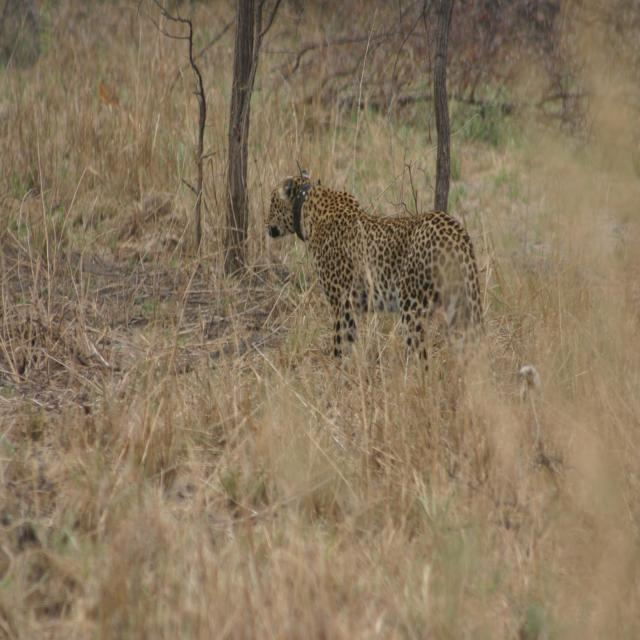Leopard: (278, 162, 521, 390)
